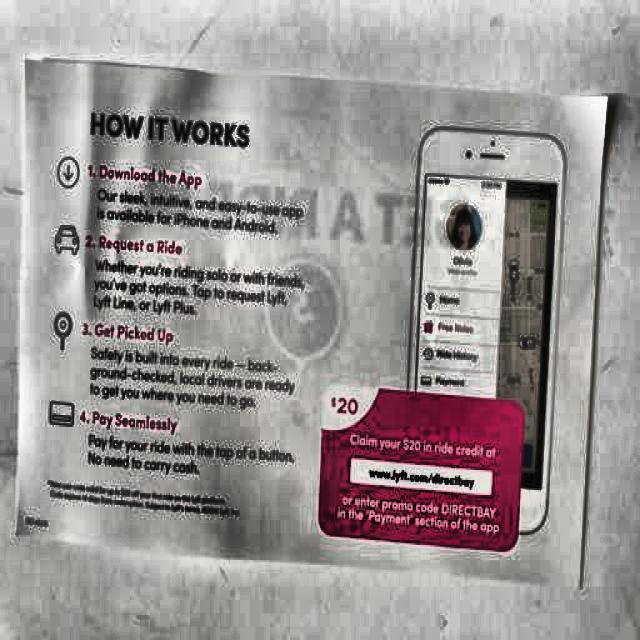paper: (13, 52, 600, 570)
